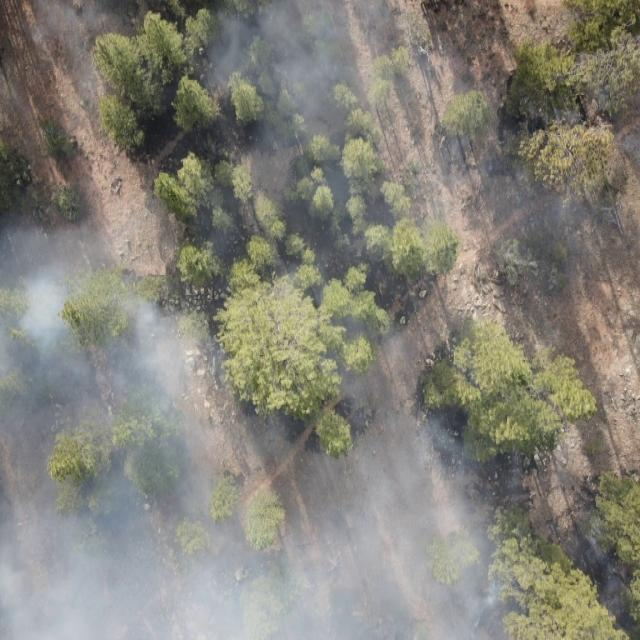smoke: (0, 202, 514, 640), (212, 78, 514, 204), (27, 0, 473, 79), (515, 104, 640, 294), (514, 482, 640, 640)
